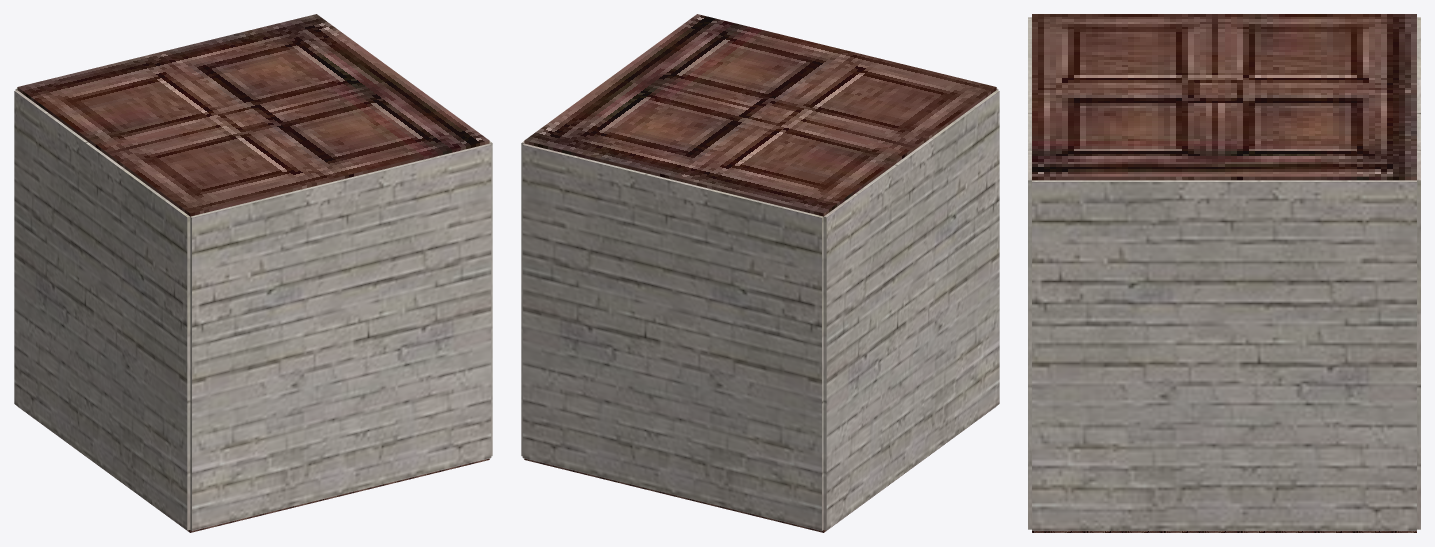
The picture shows the model from 3 angles, left to right: view 1: azimuth 30°, elevation 25°; view 2: azimuth 150°, elevation 25°; view 3: azimuth 270°, elevation 25°; orthographic projection. The views are drawn at different scales.
Visible parts, largest first — view 1: roomSide.003, roomSide.005, roomSide.002, roomSide.001, roomSide.006; view 2: roomSide.004, roomSide.005, roomSide.002, roomSide.001, roomSide.006; view 3: roomSide.006, roomSide.002, roomSide.003, roomSide.004, roomSide.001.
Part boxes in pixels (x1,y1,x2,y2): roomSide.003: [190, 143, 491, 530]; roomSide.005: [14, 90, 190, 530]; roomSide.002: [17, 14, 489, 216]; roomSide.001: [18, 407, 489, 532]; roomSide.006: [489, 141, 492, 456]; roomSide.004: [522, 143, 823, 530]; roomSide.005: [823, 90, 999, 530]; roomSide.002: [524, 14, 996, 216]; roomSide.001: [524, 407, 995, 532]; roomSide.006: [521, 141, 524, 456]; roomSide.006: [1032, 180, 1416, 530]; roomSide.002: [1032, 14, 1416, 180]; roomSide.003: [1028, 17, 1031, 529]; roomSide.004: [1417, 17, 1420, 529]; roomSide.001: [1032, 531, 1416, 532].
Size of the model in its own units: 20.4 by 20.4 by 20.4.
Materials: 4 (3 with a texture image).
